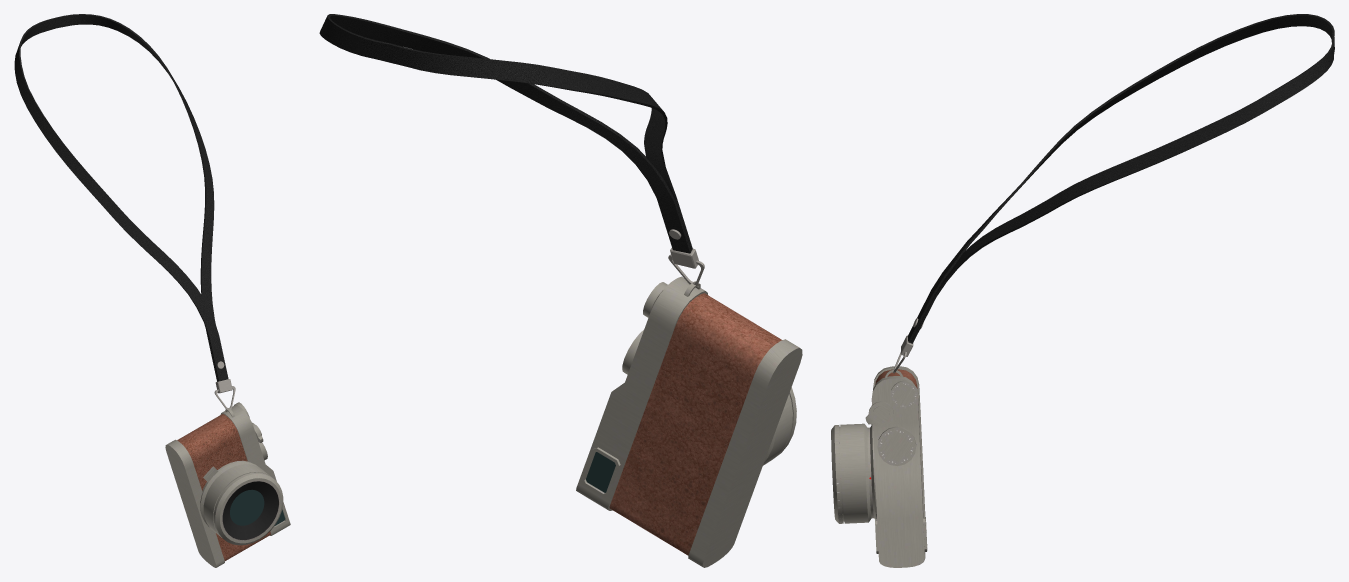
File: camera-blown.glb
3 renders of one model, left to right at view 1: azimuth 30°, elevation 25°; view 2: azimuth 150°, elevation 25°; view 3: azimuth 270°, elevation 25°, orthographic. The views are drawn at different scales.
Visible parts, largest first — view 1: Camera_body, CameraStrap; view 2: Camera_body, CameraStrap; view 3: Camera_body, CameraStrap.
Boxes of the visible parts, bbox=[...] form: Camera_body: bbox=[165, 402, 290, 567]; CameraStrap: bbox=[14, 14, 235, 410]; Camera_body: bbox=[576, 276, 802, 567]; CameraStrap: bbox=[319, 14, 704, 286]; Camera_body: bbox=[831, 366, 927, 567]; CameraStrap: bbox=[893, 14, 1334, 373].
Size of the model in its own units: 0.1255 by 0.3488 by 0.3011.
Materials: 3 (2 with a texture image).
